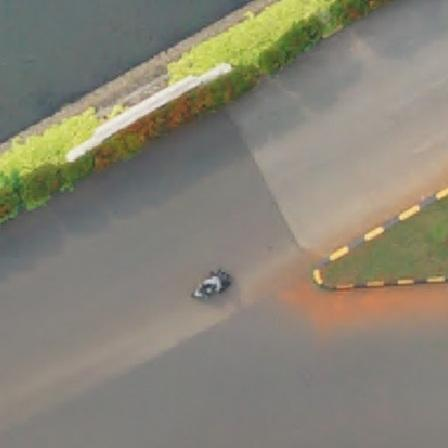Motorcycle: (190, 269, 234, 299)
